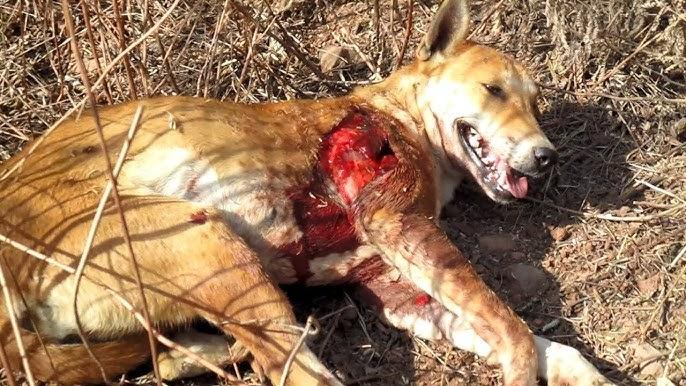bleeding: (276, 105, 407, 280)
